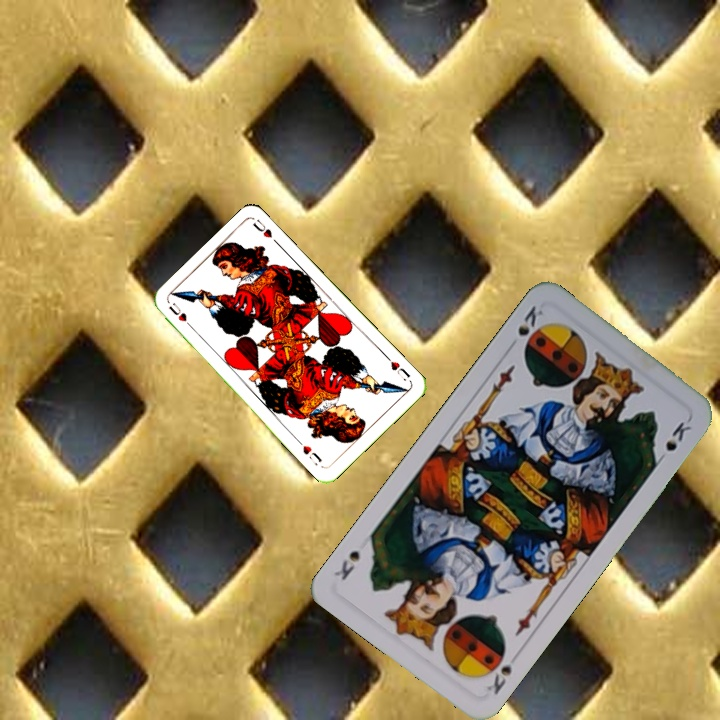HU: (165, 298, 197, 332), (382, 352, 413, 380)
SK: (482, 647, 521, 698), (513, 301, 546, 339)
